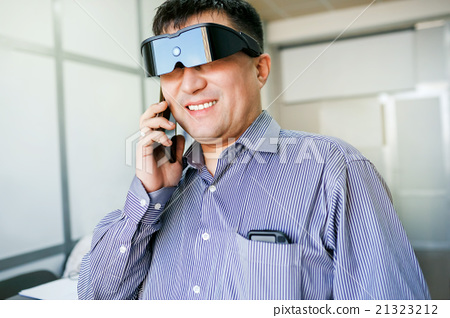phone: (148, 84, 186, 163)
talk: (124, 14, 238, 173)
